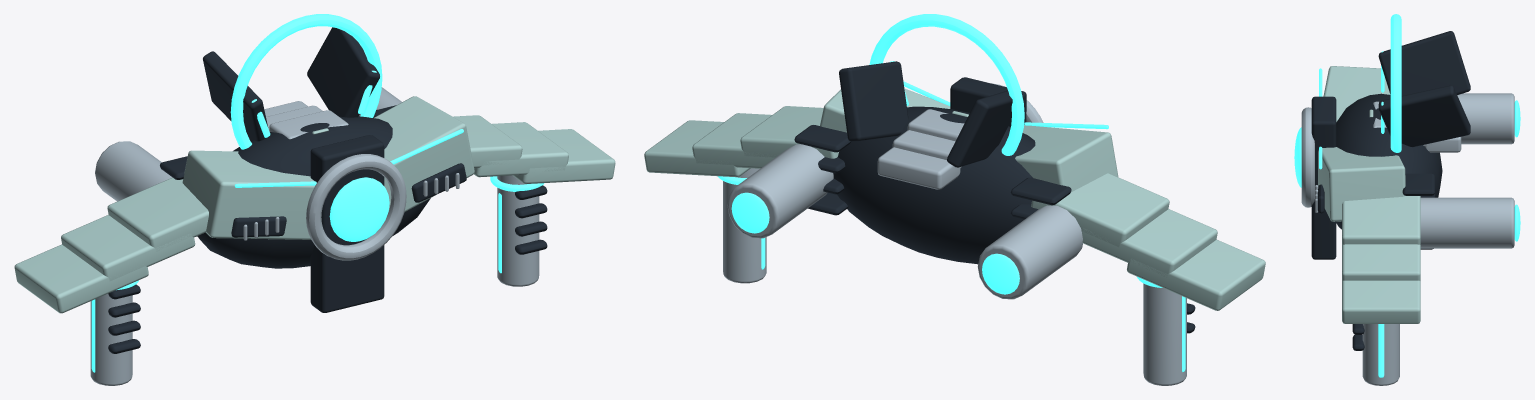
The model's file is leviathan.glb.
3 views of the same model, side by side, from view 1: azimuth 30°, elevation 25°; view 2: azimuth 150°, elevation 25°; view 3: azimuth 270°, elevation 25° (orthographic). The views are drawn at different scales.
Parts seen in each view (by area): view 1: Faceted glacier prow, Armored manta hull, Central carbon keel, Faceted glacier prow.001, Manta layered wing, Manta layered wing.002, Cryo reactor aperture, Manta layered wing.001, Swept dorsal fin.001, ReactorRotor, Siege lance.001, CoreSocket (+9 smaller); view 2: Armored manta hull, Rear ion nacelle, Manta layered wing.002, Rear ion nacelle.001, Manta layered wing, Faceted glacier prow, Swept dorsal fin.001, Manta layered wing.001, Siege lance, ReactorRotor, Manta layered wing.005, Swept dorsal fin (+13 smaller); view 3: Rear ion nacelle.001, Faceted glacier prow.001, Armored manta hull, Swept dorsal fin, Manta layered wing.003, Swept dorsal fin.001, Manta layered wing.005, Manta layered wing.004, Rear ion nacelle, Central carbon keel, Faceted glacier prow, Siege lance.001 (+9 smaller).
Part boxes in pixels (left/top/right/bottom): Faceted glacier prow: left=182, top=150, right=315, bottom=239; Armored manta hull: left=197, top=116, right=430, bottom=268; Central carbon keel: left=310, top=135, right=384, bottom=312; Faceted glacier prow.001: left=374, top=96, right=474, bottom=212; Manta layered wing: left=107, top=177, right=208, bottom=251; Manta layered wing.002: left=14, top=244, right=148, bottom=313; Cryo reactor aperture: left=306, top=154, right=406, bottom=260; Manta layered wing.001: left=61, top=215, right=195, bottom=281; Swept dorsal fin.001: left=307, top=27, right=379, bottom=117; ReactorRotor: left=230, top=14, right=382, bottom=149; Siege lance.001: left=497, top=175, right=539, bottom=286; CoreSocket: left=329, top=177, right=389, bottom=241; Armored manta hull: left=833, top=106, right=1035, bottom=264; Rear ion nacelle: left=977, top=205, right=1082, bottom=299; Manta layered wing.002: left=1127, top=239, right=1265, bottom=310; Rear ion nacelle.001: left=727, top=144, right=833, bottom=238; Manta layered wing: left=1031, top=173, right=1169, bottom=247; Faceted glacier prow: left=1015, top=125, right=1118, bottom=192; Swept dorsal fin.001: left=839, top=61, right=908, bottom=141; Manta layered wing.001: left=1082, top=209, right=1217, bottom=277; Siege lance: left=1143, top=283, right=1186, bottom=385; ReactorRotor: left=869, top=14, right=1024, bottom=155; Manta layered wing.005: left=644, top=120, right=750, bottom=177; Swept dorsal fin: left=947, top=90, right=1012, bottom=167; Rear ion nacelle.001: left=1420, top=197, right=1514, bottom=248; Faceted glacier prow.001: left=1318, top=147, right=1405, bottom=221; Armored manta hull: left=1336, top=93, right=1442, bottom=229; Swept dorsal fin: left=1378, top=31, right=1470, bottom=95; Manta layered wing.003: left=1342, top=196, right=1420, bottom=244; Swept dorsal fin.001: left=1378, top=85, right=1470, bottom=147; Manta layered wing.005: left=1342, top=280, right=1420, bottom=323; Manta layered wing.004: left=1342, top=244, right=1420, bottom=280; Rear ion nacelle: left=1457, top=93, right=1514, bottom=144; Central carbon keel: left=1311, top=96, right=1336, bottom=259; Faceted glacier prow: left=1323, top=66, right=1390, bottom=121; Siege lance.001: left=1362, top=324, right=1399, bottom=385.
Bounding box in the file's own units: 5.78 × 3.02 × 2.29.
